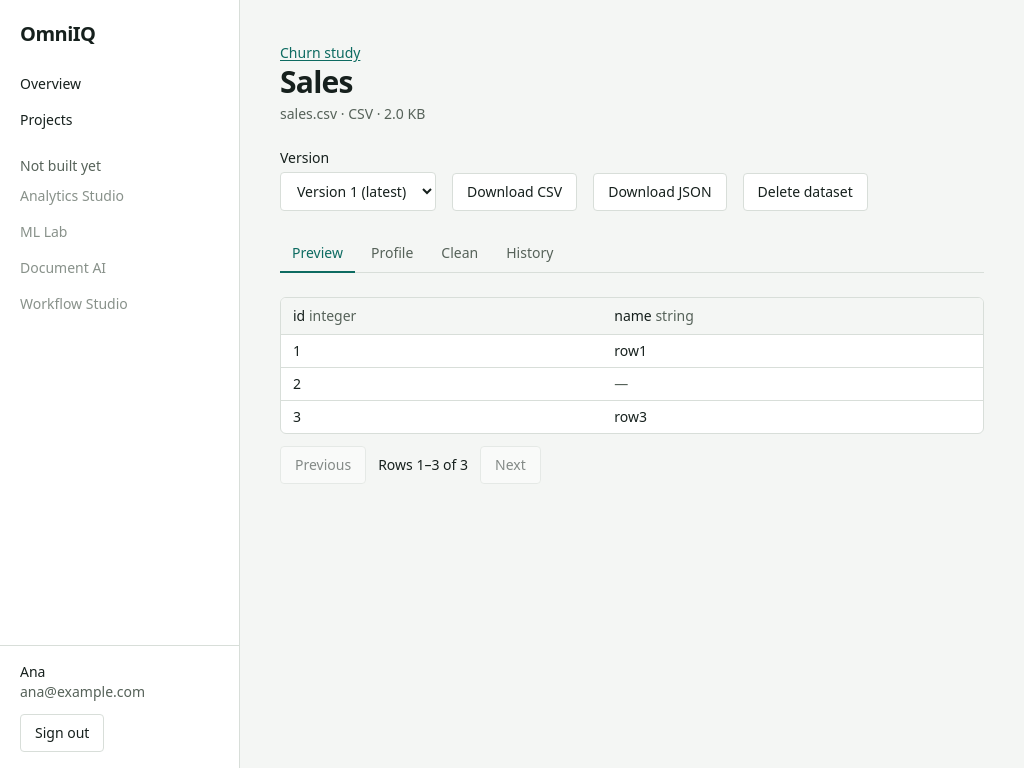
Scenario: Export, roles and delete › owners delete only after confirming, then return to the project
The image size is (1024, 768).
Click the button "Delete dataset" at (805, 192), box [742, 173, 868, 211]
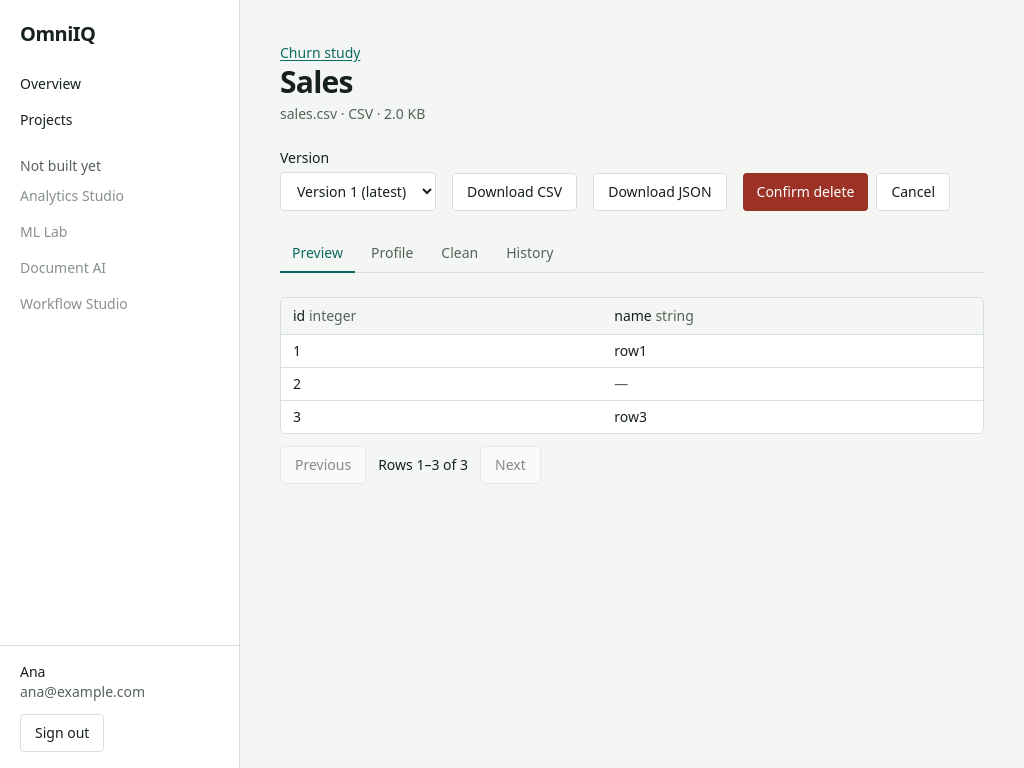
Click the button "Cancel" at (913, 192), box [876, 173, 950, 211]
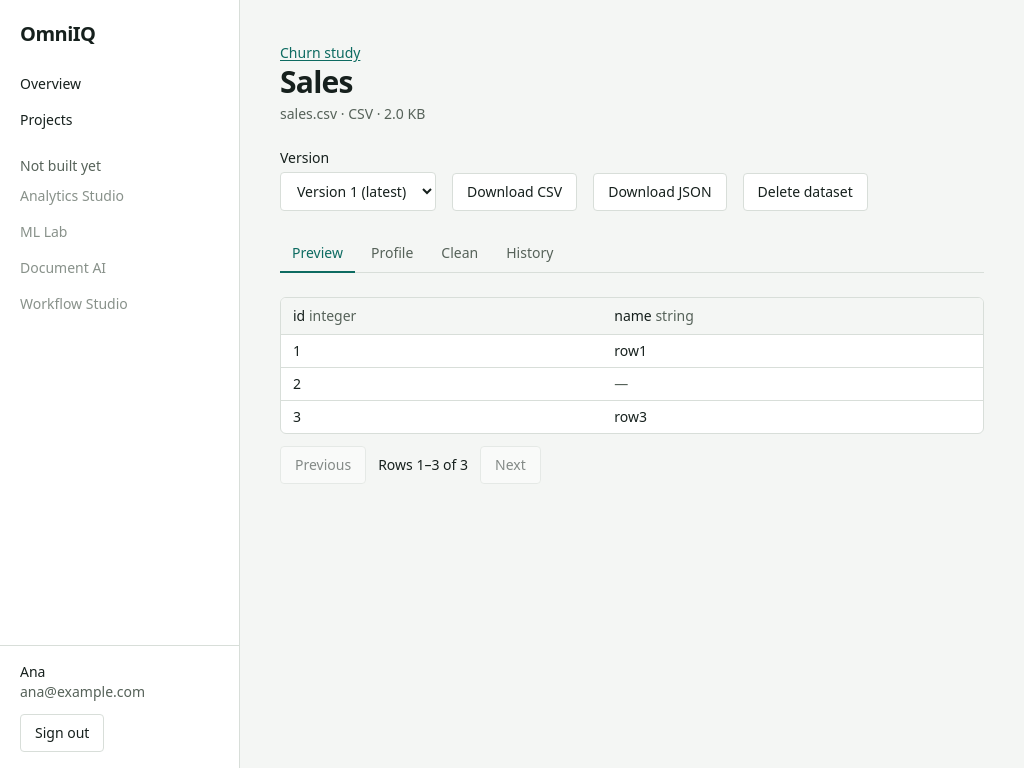
Click the button "Delete dataset" at (805, 192), box [742, 173, 868, 211]
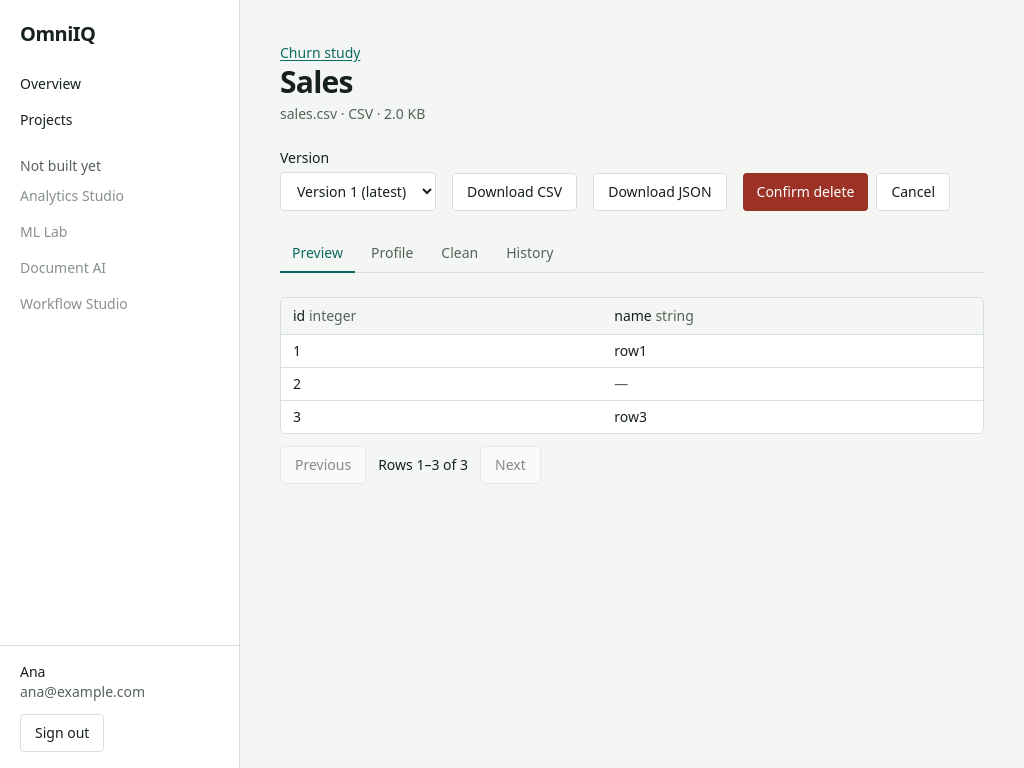
Click the button "Confirm delete" at (805, 192), box [742, 173, 868, 211]
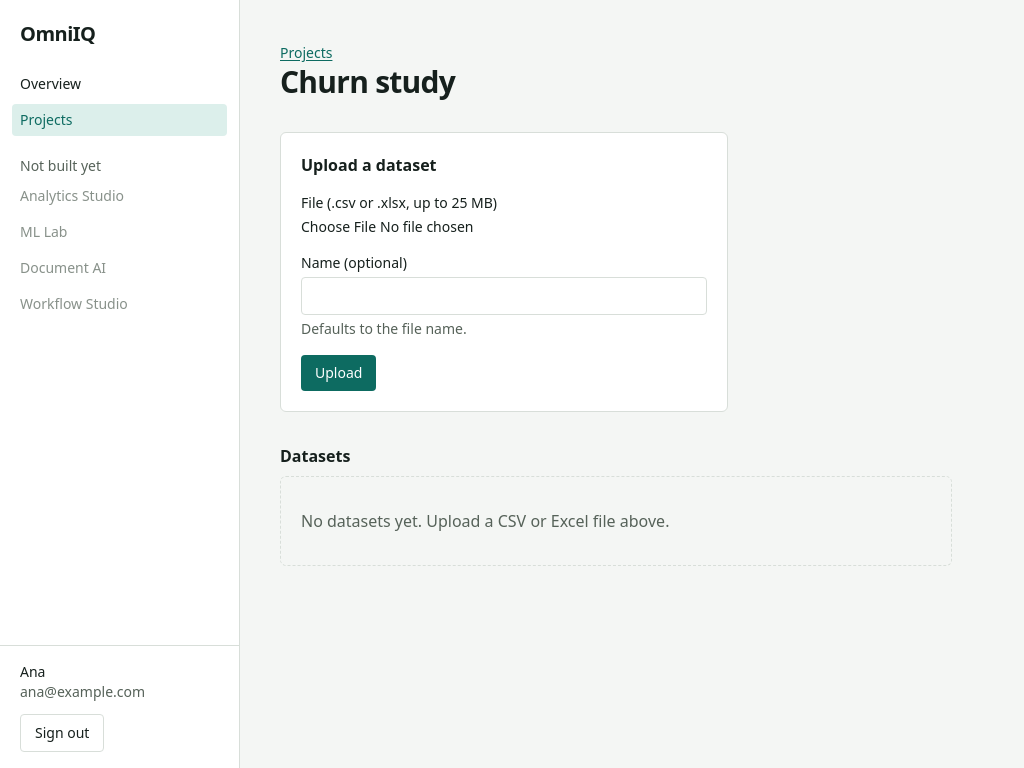
Expected: the heading "Churn study" is shown, [280, 61, 455, 102]
